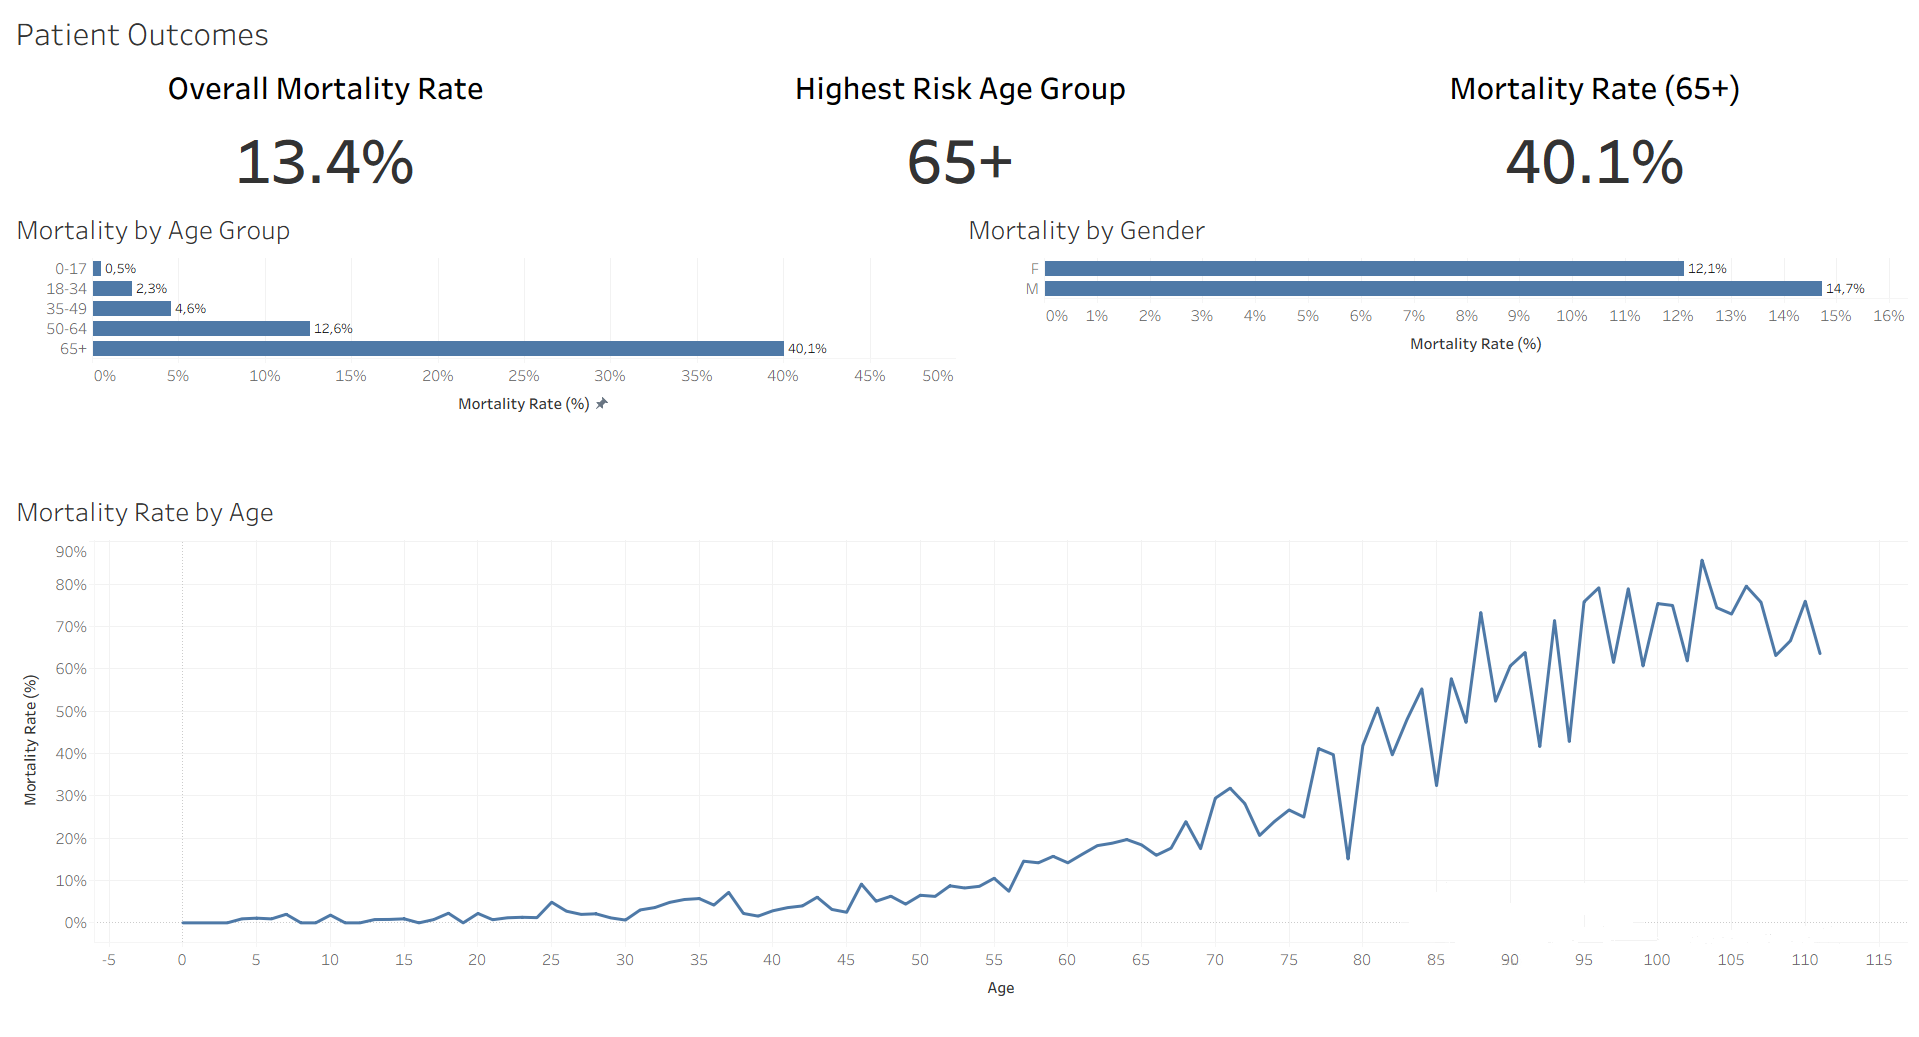

What the dashboard file says about the page in this screenshot:
{"tool":"tableau","page":{"name":"Patient Outcomes","canvas":[1000,1000],"units":"permille","ordinal":2},"visuals":[{"type":"title","box":[4.8,9.4,990.3,58.8]},{"type":"worksheet","title":"KPI - Overall Mortality Rate","mark":"Automatic","box":[4.8,68.2,330.1,171.6]},{"type":"worksheet","title":"KPI - Highest Risk Age Group","mark":"Automatic","box":[334.9,68.2,330.1,171.6]},{"type":"worksheet","title":"KPI - Mortality Rate (65+)","mark":"Automatic","box":[665.1,68.2,330.1,171.6]},{"type":"worksheet","title":"Mortality by Age Group","mark":"Automatic","rows":["Calculation_1426929256345600"],"cols":["Calculation_1426929256763393"],"box":[4.8,239.7,495.2,331.4]},{"type":"worksheet","title":"Mortality by Gender","mark":"Automatic","rows":["gender"],"cols":["Calculation_0495643683368963"],"box":[500,239.7,495.2,331.4]},{"type":"worksheet","title":"Mortality Rate by Age","mark":"Automatic","rows":["Calculation_0495643684364292"],"cols":["age"],"box":[4.8,571.1,990.3,419.5]}]}

Visuals, with their boxes on the dashboard's canvas, which has no fixed pixel size, in thousandths of its width and height (x1, y1, x2, y2). These are canvas units, not pixel positions in the 1919x1037 screenshot, which may show the page scaled, cropped or inside an application window:
title: <region>5, 9, 995, 68</region>
"KPI - Overall Mortality Rate" worksheet: <region>5, 68, 335, 240</region>
"KPI - Highest Risk Age Group" worksheet: <region>335, 68, 665, 240</region>
"KPI - Mortality Rate (65+)" worksheet: <region>665, 68, 995, 240</region>
"Mortality by Age Group" worksheet: <region>5, 240, 500, 571</region>
"Mortality by Gender" worksheet: <region>500, 240, 995, 571</region>
"Mortality Rate by Age" worksheet: <region>5, 571, 995, 991</region>
